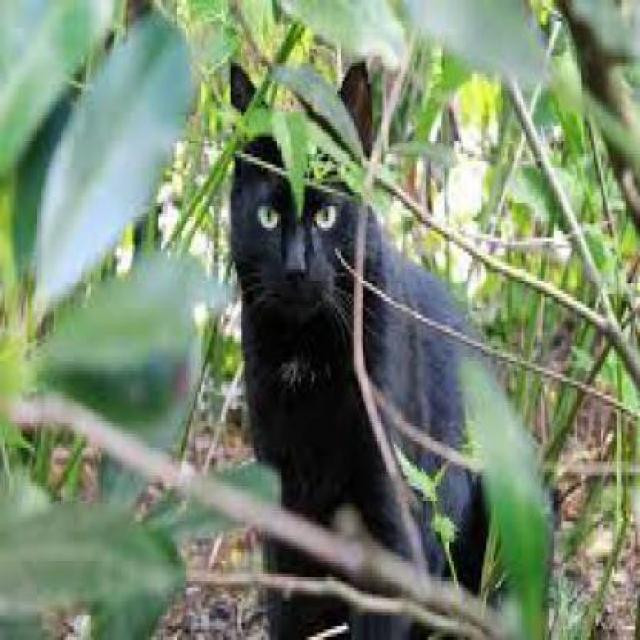animals: (212, 49, 450, 458)
